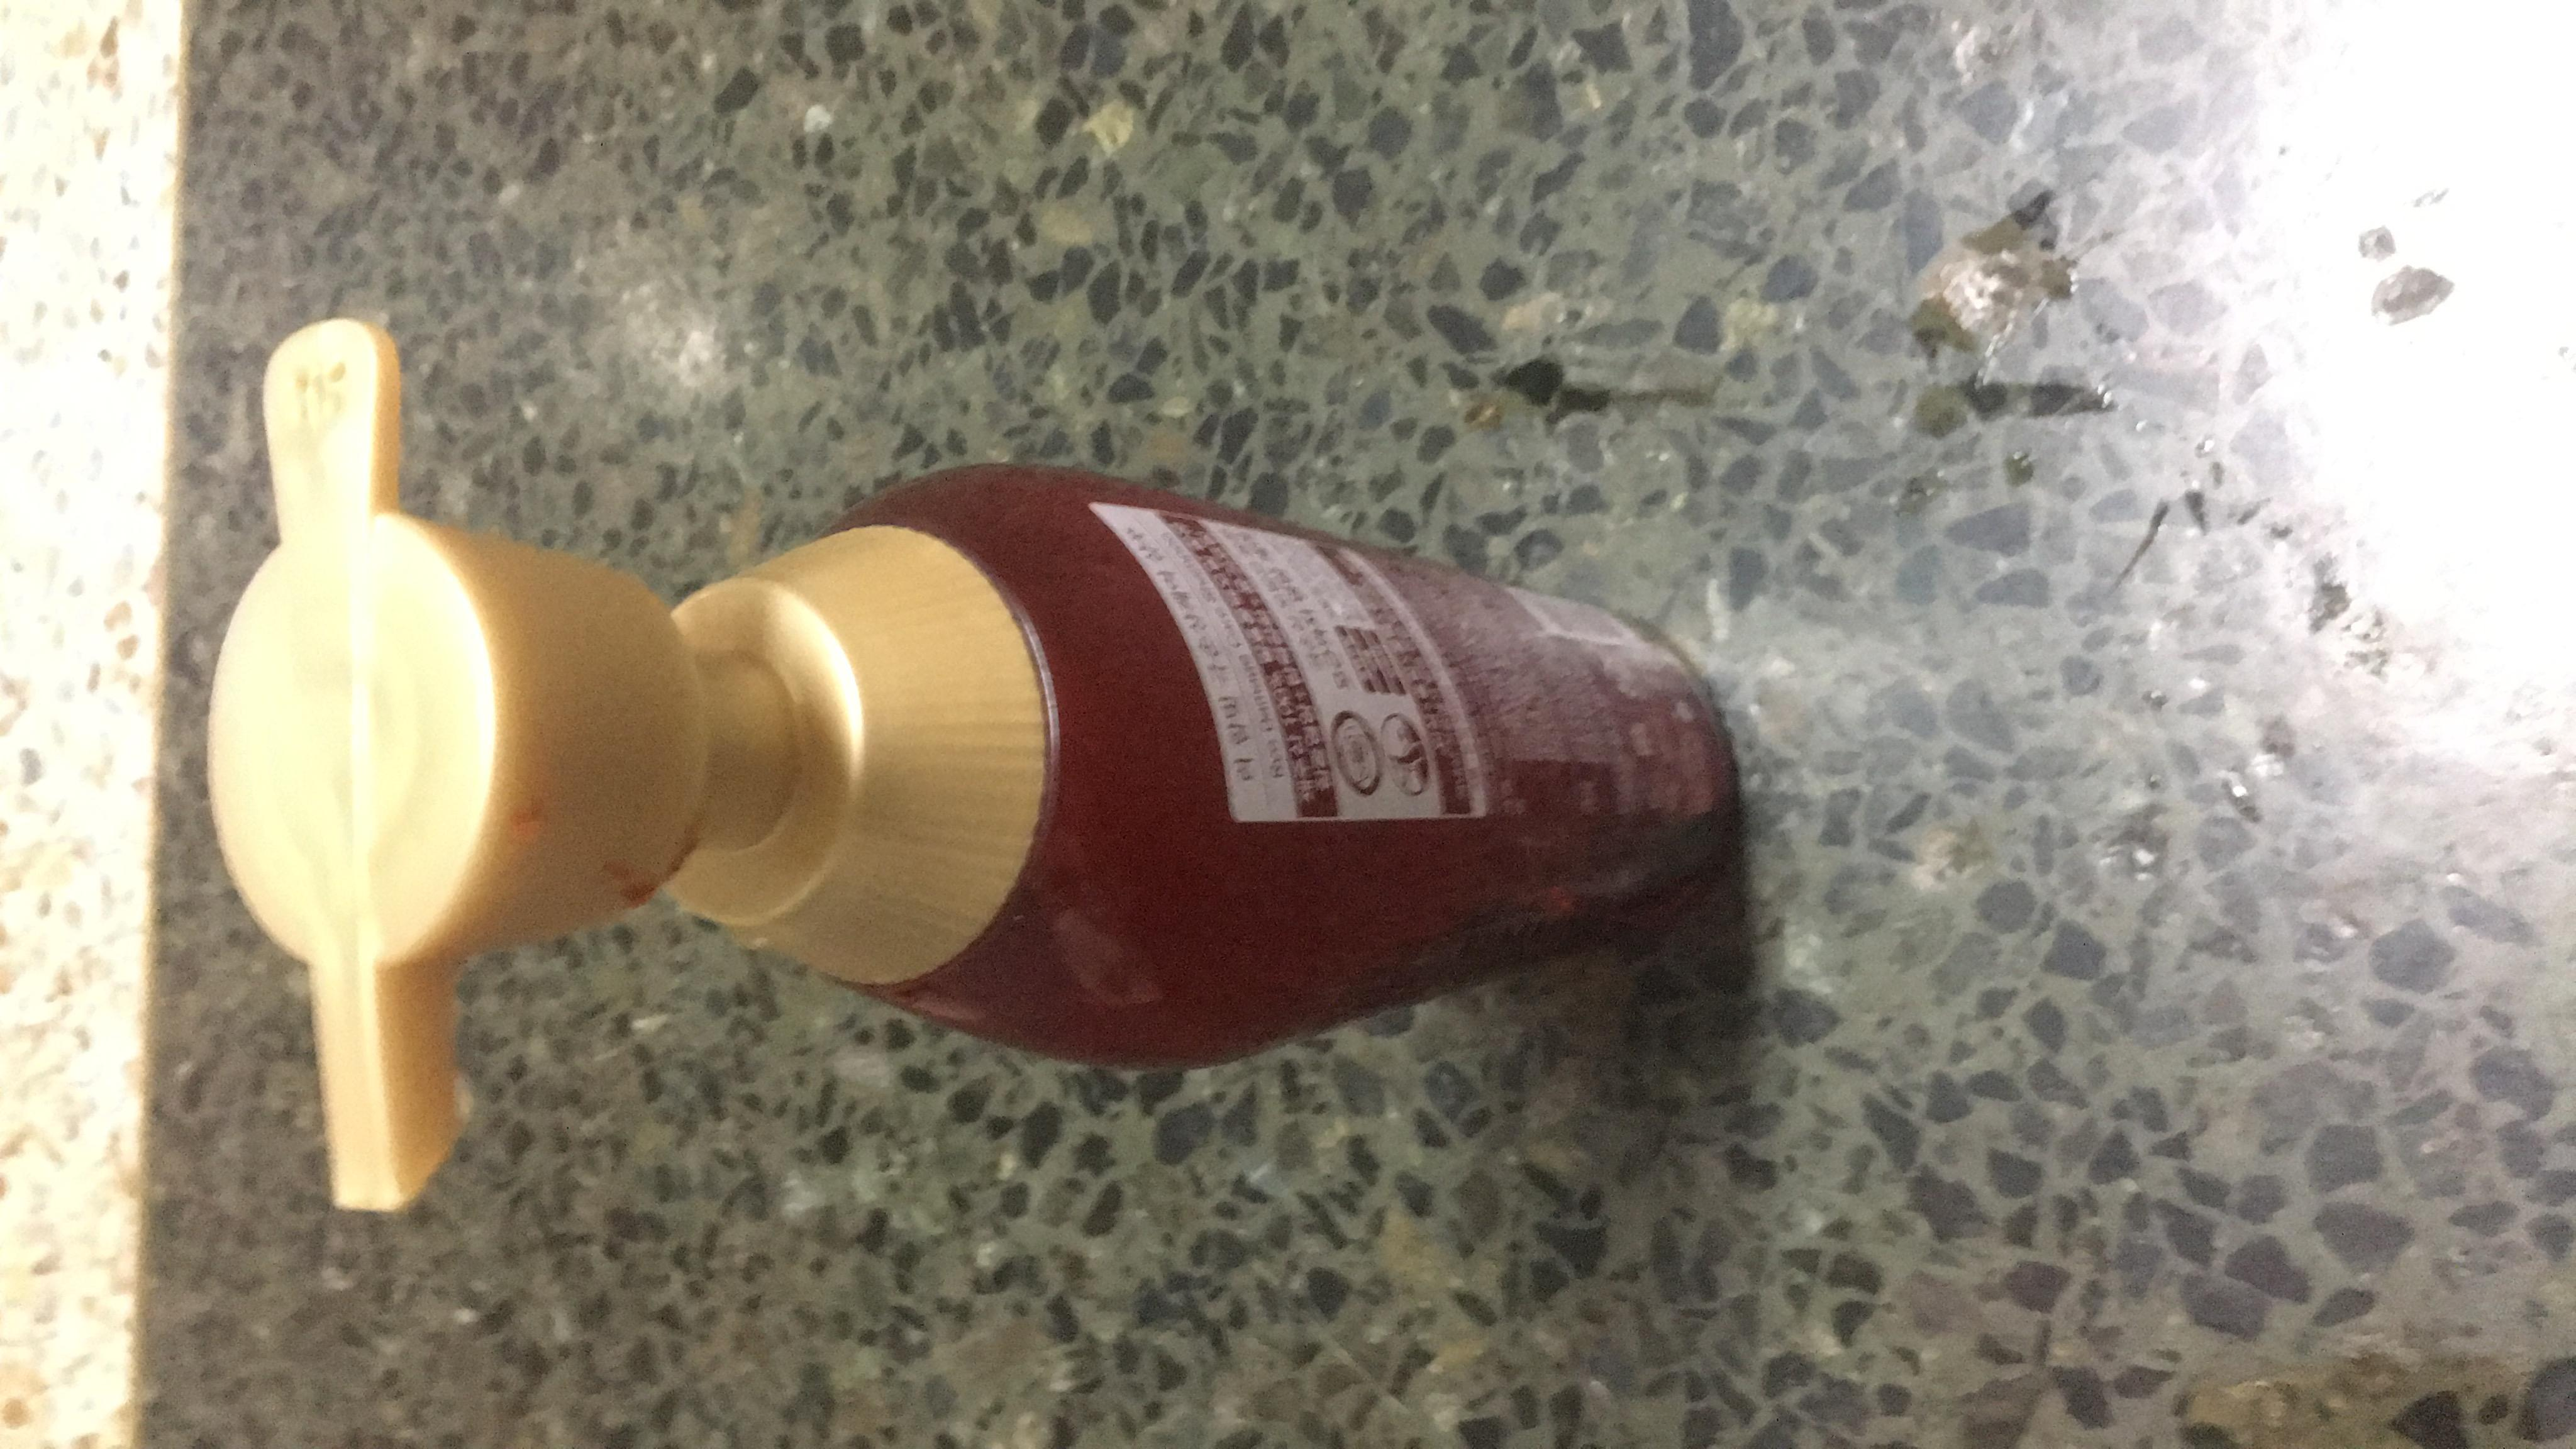bottle: (258, 4, 2010, 984)
